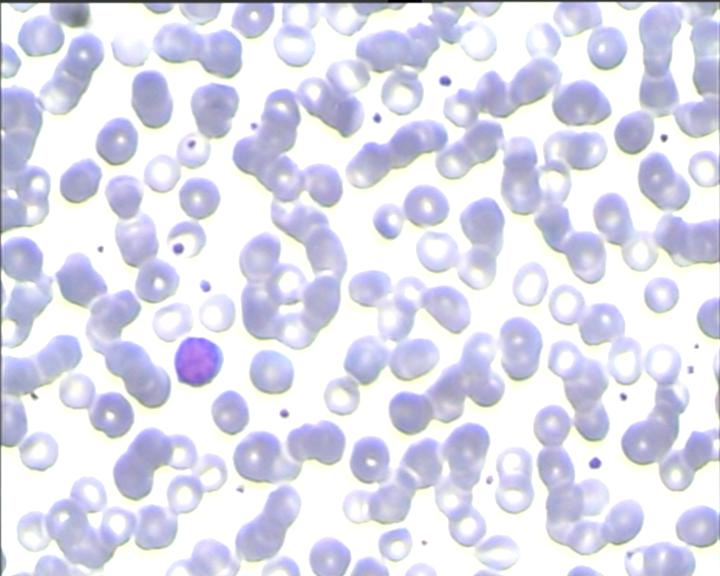lymp: (171, 332, 227, 392)
